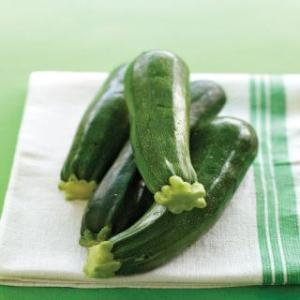zucchini: (129, 53, 197, 218)
